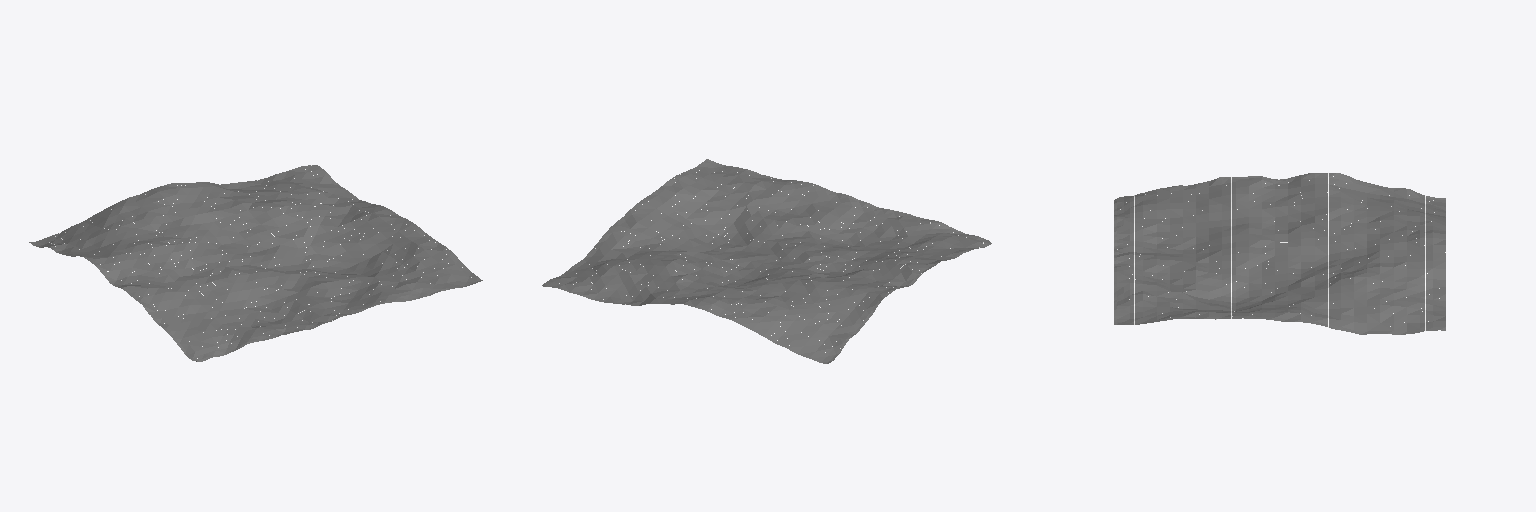
3 views of the same model, side by side, from view 1: azimuth 30°, elevation 25°; view 2: azimuth 150°, elevation 25°; view 3: azimuth 270°, elevation 25° (orthographic).
Visible parts, largest first — view 1: terrain01; view 2: terrain01; view 3: terrain01.
Part boxes in pixels (x1,y1,x2,y2): terrain01: (29,165,482,361); terrain01: (542,159,991,363); terrain01: (1114,173,1445,334).
Size of the model in its own units: 20 by 1.75 by 20.
1 materials, 1 textured.